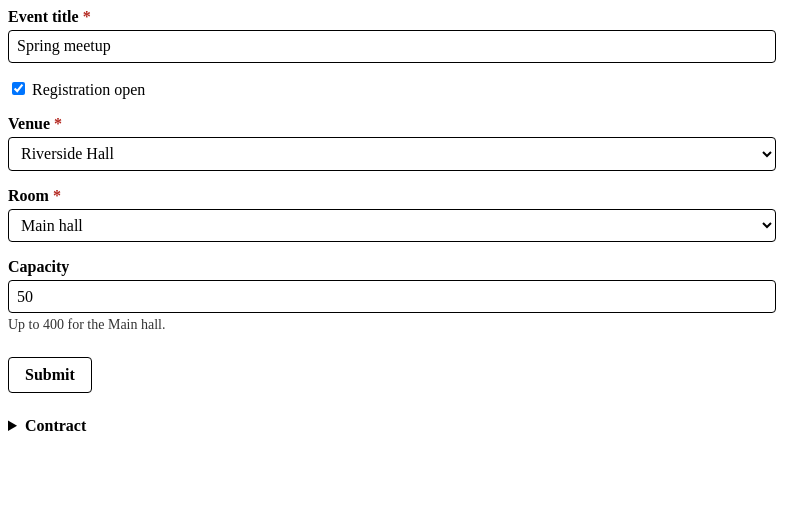
submitting an operation that creates › moves to the page where the created thing now lives, on a 201
The image size is (793, 508).
Step 1. Click the button "Submit" → coordinates (50, 375), box [8,357,92,393]
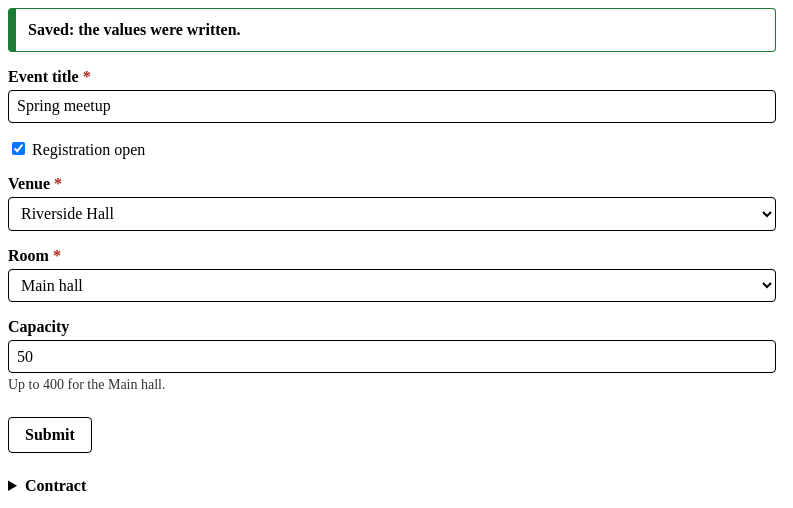
Expected: the message reads "Saved: the values were written.", [28,21,241,38]
